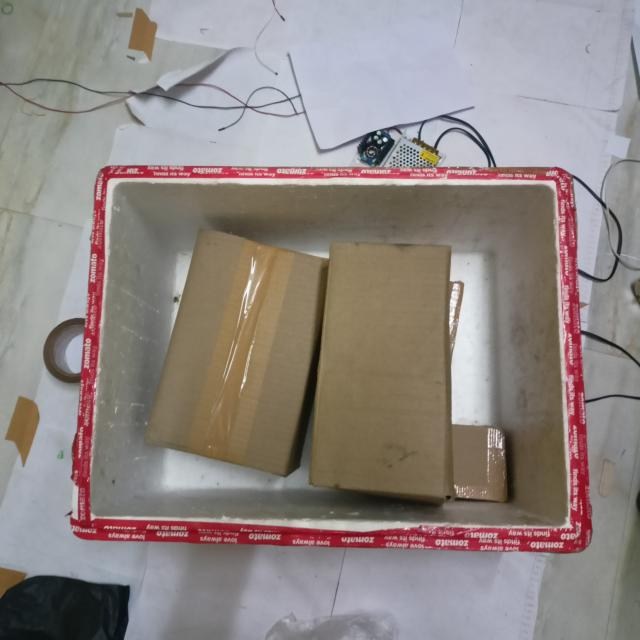box: (131, 222, 329, 482), (309, 239, 448, 500)
